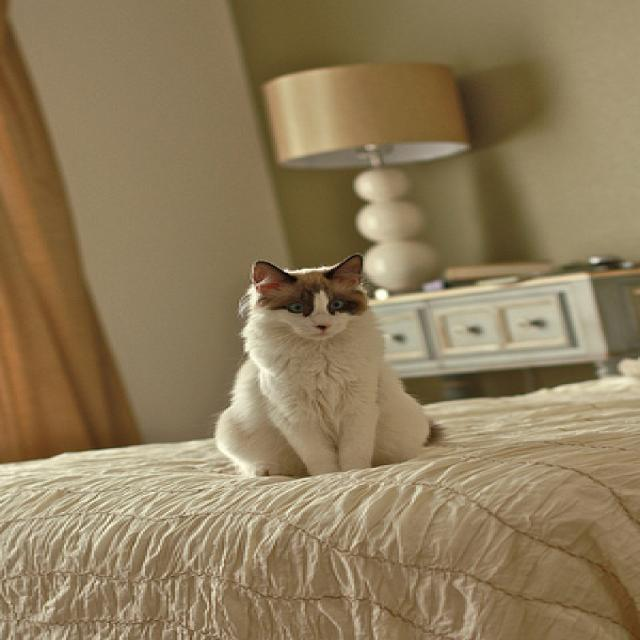Ragdoll: (205, 249, 449, 483)
